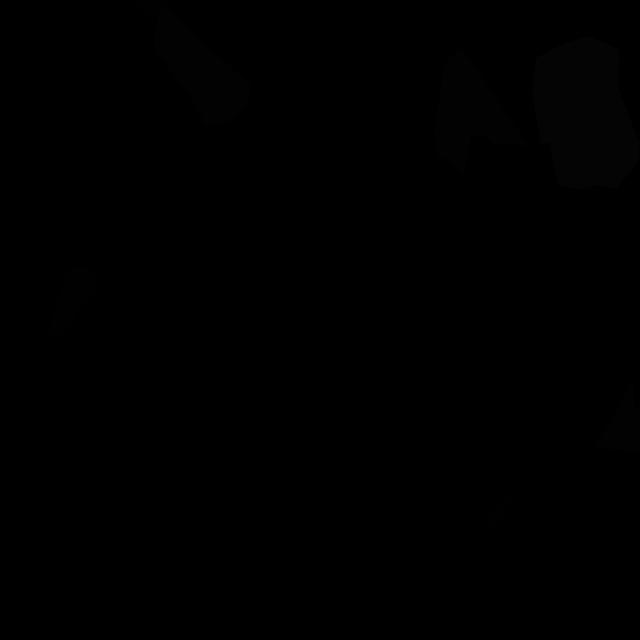cardboard: (434, 47, 530, 177), (153, 7, 250, 125), (594, 380, 640, 451)
rigid_plastic: (46, 266, 96, 342), (79, 0, 169, 19), (480, 486, 511, 532)
soft_plastic: (532, 36, 640, 189)
